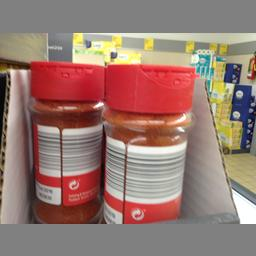spices: (103, 62, 194, 223), (28, 60, 102, 222)
